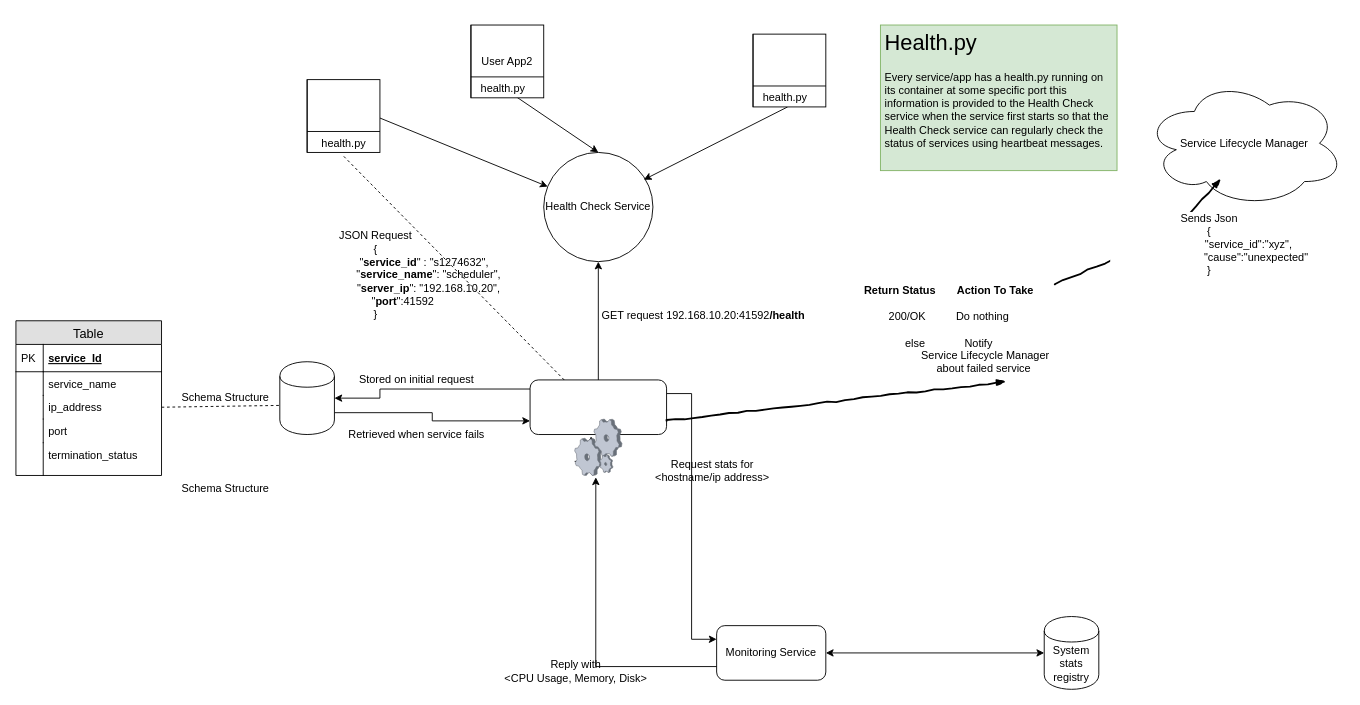
Some shapes in this 1360 by 705 pixel diagram are drawn without their labels. Each missing label, with the box of its shape:
Scheduler: (306, 79, 380, 152)
Topology Data: (279, 361, 334, 435)
Topology Manager: (529, 379, 667, 435)
User App1: (752, 33, 826, 107)
